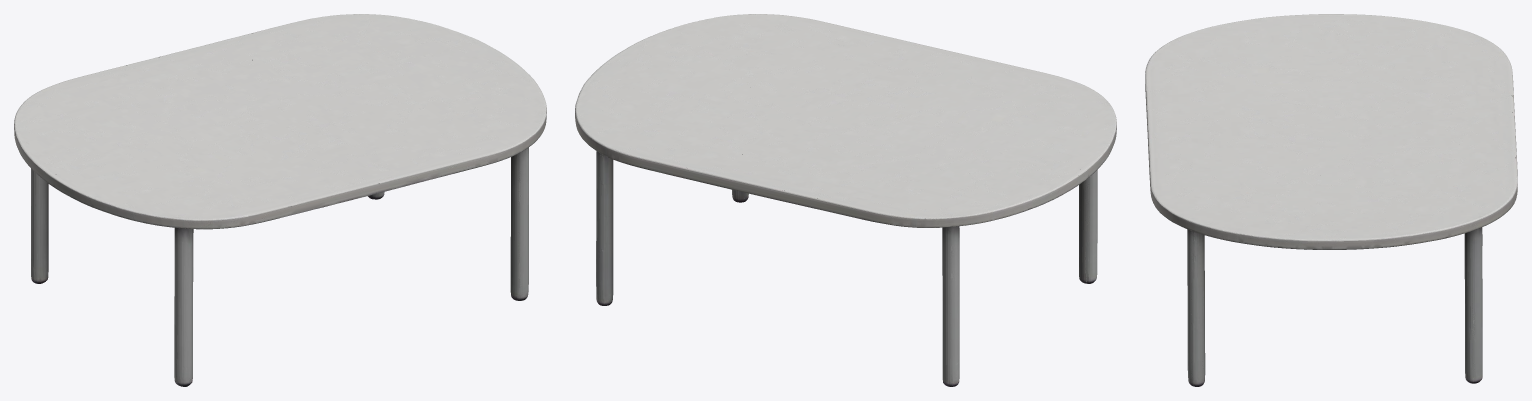
Rendered from white_oval_table_000.glb.
3 renders of one model, left to right at view 1: azimuth 30°, elevation 25°; view 2: azimuth 150°, elevation 25°; view 3: azimuth 270°, elevation 25°, orthographic.
Visible parts, largest first — view 1: phase2_final_white_oval_table_000.obj; view 2: phase2_final_white_oval_table_000.obj; view 3: phase2_final_white_oval_table_000.obj.
Part boxes in pixels (x1,y1,x2,y2): phase2_final_white_oval_table_000.obj: (14, 14, 546, 386); phase2_final_white_oval_table_000.obj: (575, 14, 1116, 386); phase2_final_white_oval_table_000.obj: (1145, 14, 1517, 386).
Size of the model in its own units: 1.01 by 0.3634 by 0.7007.
Materials: 1 (1 with a texture image).
